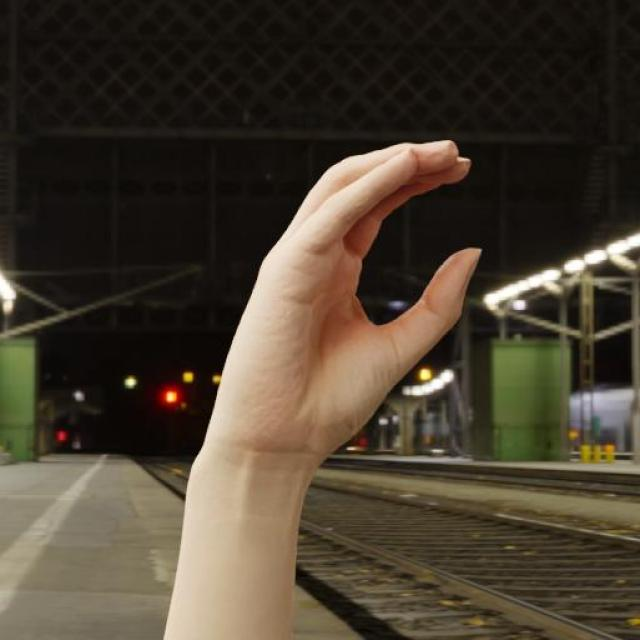C: (193, 134, 484, 477)
